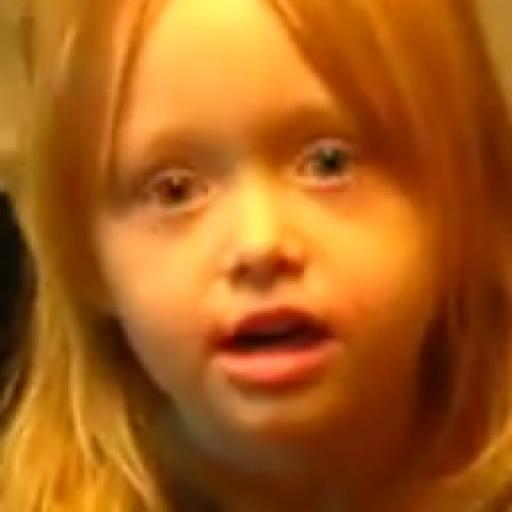Autism: (89, 22, 490, 500)
